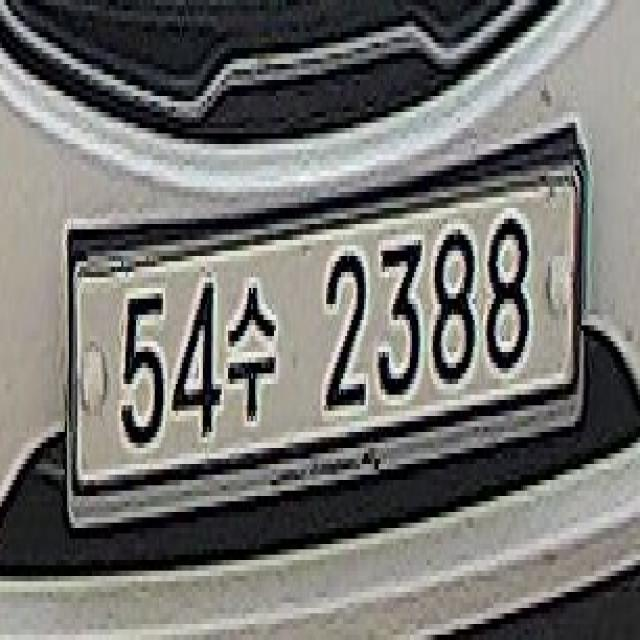2: (322, 251, 366, 416)
3: (376, 208, 424, 416)
4: (165, 277, 224, 459)
5: (113, 282, 165, 458)
8: (489, 181, 542, 400), (433, 219, 477, 389)
license_plate: (61, 144, 592, 565)
su: (224, 261, 291, 443)
